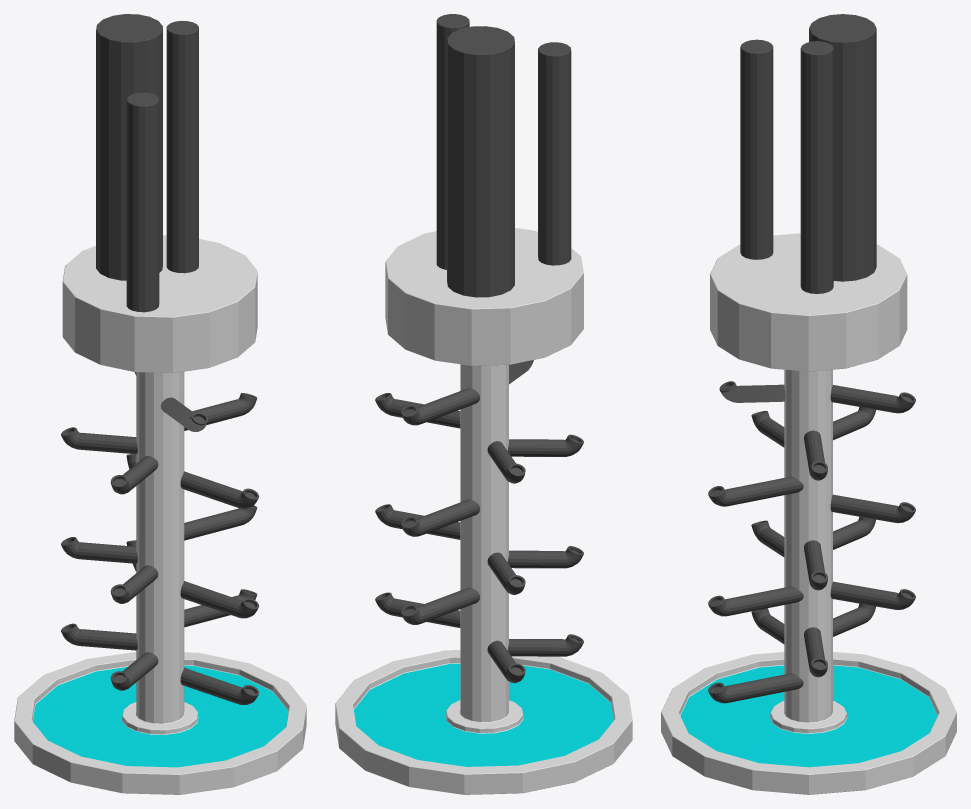
The model's file is aeropod.fbx.
3 renders of one model, left to right at view 1: azimuth 30°, elevation 25°; view 2: azimuth 150°, elevation 25°; view 3: azimuth 270°, elevation 25°, orthographic.
Visible parts, largest first — view 1: AeroPod; view 2: AeroPod; view 3: AeroPod.
Part boxes in pixels (x1,y1,x2,y2): AeroPod: [14, 14, 306, 794]; AeroPod: [335, 14, 632, 794]; AeroPod: [661, 14, 956, 794].
Bounding box in the file's own units: 842 × 2191 × 842.
